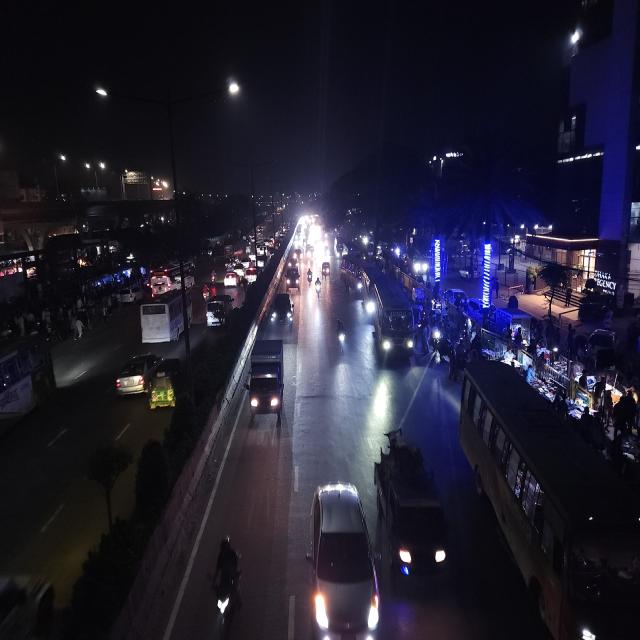bus: (458, 361, 638, 640), (0, 332, 56, 445), (368, 273, 418, 367), (138, 285, 196, 345), (339, 254, 365, 297)
car: (306, 476, 378, 640), (113, 349, 164, 400), (268, 289, 294, 333), (285, 266, 301, 289), (223, 269, 239, 289), (244, 269, 258, 286)
cng: (148, 355, 184, 414), (321, 259, 332, 279)
motorcycle: (204, 531, 246, 640), (333, 316, 348, 358), (314, 275, 322, 298), (306, 266, 314, 282), (210, 266, 218, 282)
pickup_van: (373, 435, 453, 594)
truck: (246, 336, 286, 421)
